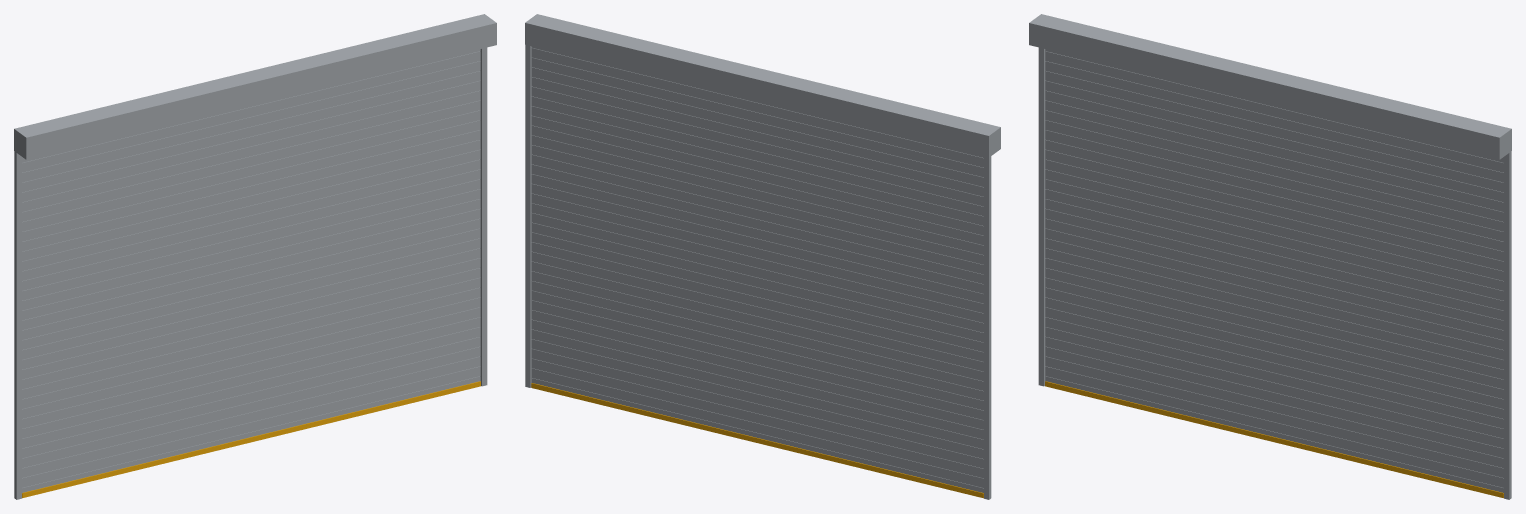
File: opening.door.shutter_8000x6000.glb
3 views of the same model, side by side, from view 1: azimuth 30°, elevation 25°; view 2: azimuth 150°, elevation 25°; view 3: azimuth 330°, elevation 25° (orthographic).
Visible parts, largest first — view 1: leaf__steel_galvanised, frame__steel_galvanised, leaf__plant_yellow; view 2: leaf__steel_galvanised, frame__steel_galvanised, leaf__plant_yellow; view 3: leaf__steel_galvanised, frame__steel_galvanised, leaf__plant_yellow.
Part boxes in pixels (x1=…): leaf__steel_galvanised: x1=22, y1=49, x2=480, y2=492; frame__steel_galvanised: x1=14, y1=14, x2=496, y2=499; leaf__plant_yellow: x1=22, y1=381, x2=480, y2=498; leaf__steel_galvanised: x1=531, y1=46, x2=983, y2=492; frame__steel_galvanised: x1=525, y1=14, x2=1000, y2=499; leaf__plant_yellow: x1=531, y1=383, x2=983, y2=498; leaf__steel_galvanised: x1=1045, y1=49, x2=1503, y2=492; frame__steel_galvanised: x1=1029, y1=14, x2=1511, y2=499; leaf__plant_yellow: x1=1045, y1=381, x2=1503, y2=498.
Size of the model in its own units: 8 by 6 by 0.36.
